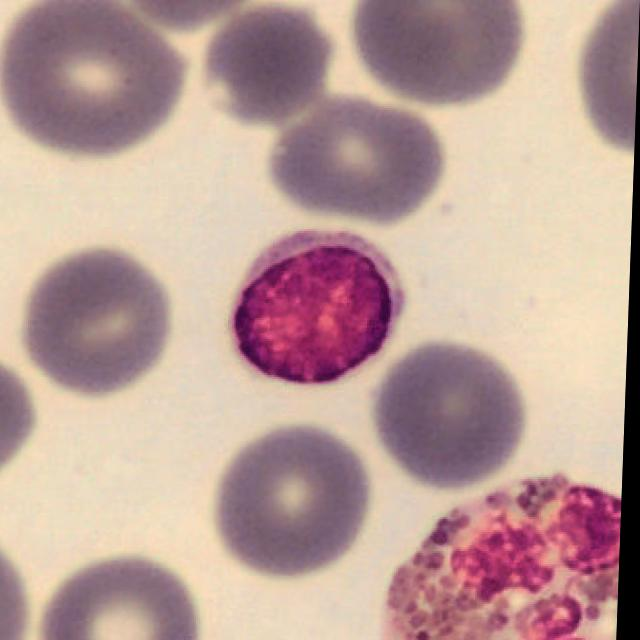Linfocito: (232, 231, 406, 386)
